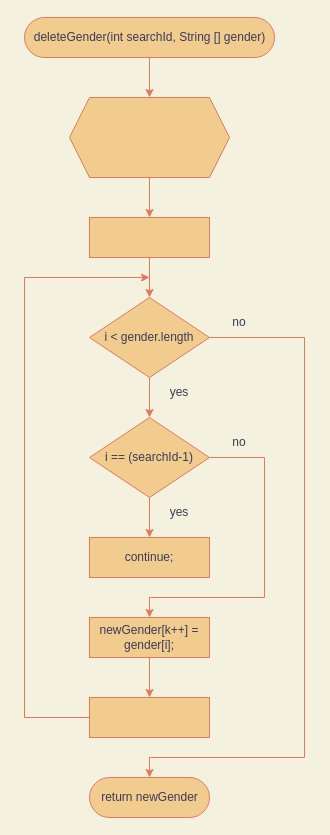
This 330x835 diagram has some shape labels left out. Here are the shapes that lost their labels. From the top down, the centre of each, then its label:
At point (149, 137): "String [] new Gender = new String[gender.length-1];".
At point (149, 237): "int i = 0, k = 0".
At point (149, 717): "i++".
